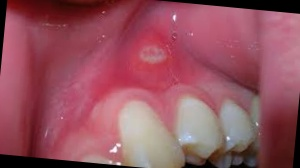Ulcer: (140, 40, 169, 64)
